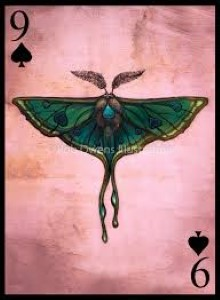NineOfSpades: (3, 5, 216, 294)
